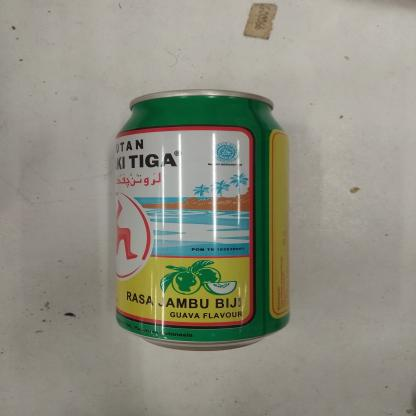bottle: (109, 88, 295, 354)
